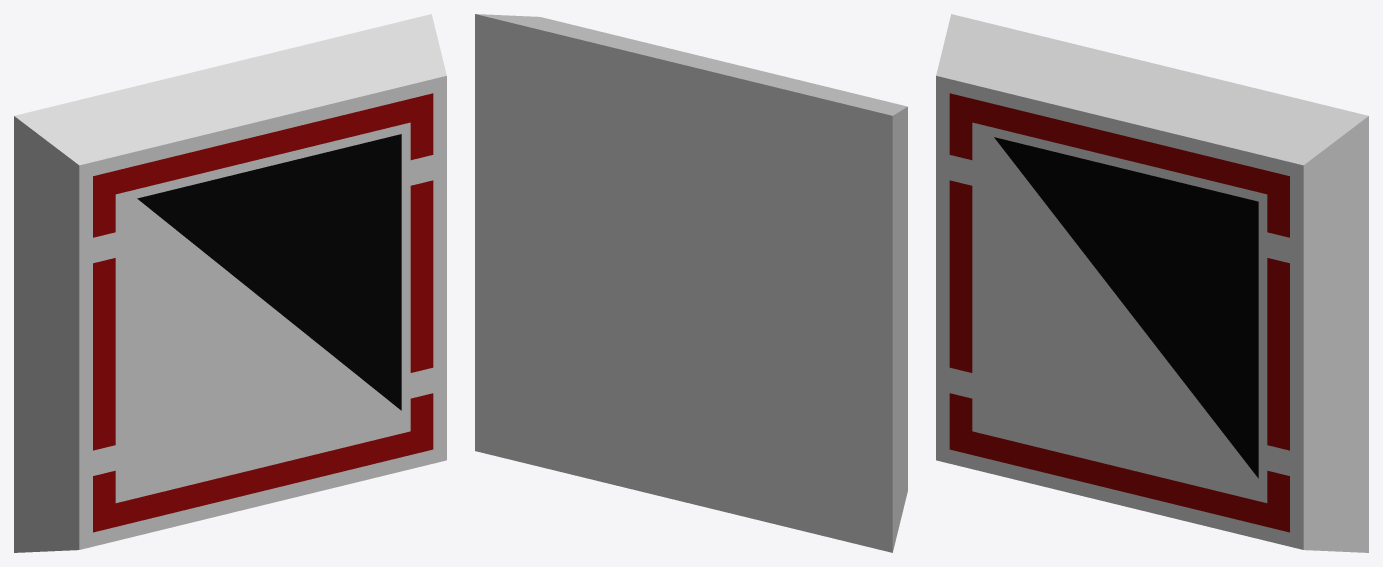
File: SciFi_Modular_Semiotic_Airlock_01.fbx
The picture shows the model from 3 angles, left to right: view 1: azimuth 30°, elevation 25°; view 2: azimuth 150°, elevation 25°; view 3: azimuth 330°, elevation 25°; orthographic projection.
Parts seen in each view (by area): view 1: SciFi_Modular_Semiotic_Airlock_01; view 2: SciFi_Modular_Semiotic_Airlock_01; view 3: SciFi_Modular_Semiotic_Airlock_01.
Part boxes in pixels (<box>): SciFi_Modular_Semiotic_Airlock_01: <box>14,14,446,552</box>; SciFi_Modular_Semiotic_Airlock_01: <box>475,14,907,552</box>; SciFi_Modular_Semiotic_Airlock_01: <box>936,14,1368,552</box>.
Size of the model in its own units: 21.12 by 21.12 by 3.52.
